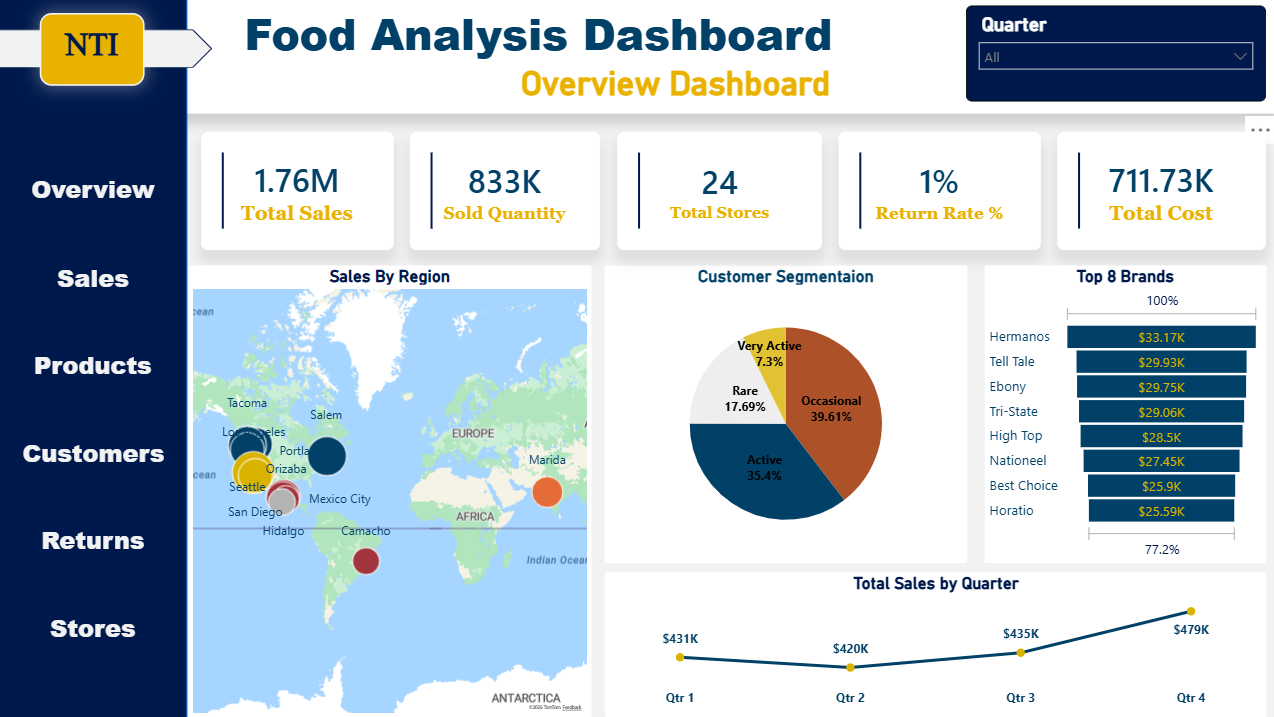

Layout of this report page (visuals, bound fields, positions):
{"tool":"powerbi","page":{"name":"Overview","canvas":[1280,720],"ordinal":1},"visuals":[{"type":"shape","box":[0,0,191.2,720],"z":0,"group":"g1"},{"type":"textbox","box":[1.2,0,1278.8,116.2],"z":0},{"type":"shape","box":[0,31.2,216.2,38.8],"z":1000,"group":"g1"},{"type":"cardVisual","fields":{"Data":["Sales.Total Sales"]},"box":[205,133.8,192.5,118.8],"z":1000},{"type":"textbox","box":[43.8,15,105,72.5],"z":2000,"group":"g1"},{"type":"cardVisual","fields":{"Data":["Sales.Total Quantity"]},"box":[414.1,133.8,190,118.8],"z":2000},{"type":"cardVisual","fields":{"Data":["Returns.Return Rate %"]},"box":[842.2,133.8,202.5,118.8],"z":3000},{"type":"actionButton","title":"Overview","box":[30.2,149.3,133.8,83.8],"z":3000,"group":"g1"},{"type":"cardVisual","fields":{"Data":["Sales.Total Cost"]},"box":[1061.2,133.8,208.8,118.8],"z":4000},{"type":"actionButton","title":"Overview","box":[30.2,237,133.8,83.8],"z":4000,"group":"g1"},{"type":"actionButton","title":"Overview","box":[30.2,324.8,133.8,83.8],"z":5000,"group":"g1"},{"type":"lineChart","fields":{"Y":["Sales.Total Sales"],"Category":["Calendar.date.Variation.Date Hierarchy.Year","Calendar.date.Variation.Date Hierarchy.Quarter","Calendar.date.Variation.Date Hierarchy.Month","Calendar.date.Variation.Date Hierarchy.Day"]},"box":[608.8,573.8,661.2,146.2],"z":5000},{"type":"funnel","title":"Top 8 Brands","fields":{"Category":["Products.Product Brand"],"Y":["Sales.Profit"]},"box":[988.8,267.5,281.2,297.5],"z":6000},{"type":"actionButton","title":"Overview","box":[19.6,412.5,155,83.8],"z":6000,"group":"g1"},{"type":"azureMap","title":"Sales By Region","fields":{"Series":["Region.Sales Region"],"Size":["Sales.Total Sales"],"Category":["Region.Sales District"]},"box":[192.5,267.5,402.5,452.5],"z":7000},{"type":"actionButton","title":"Overview","box":[30.2,500.3,133.8,83.8],"z":7000,"group":"g1"},{"type":"pieChart","title":"Customer Segmentaion","fields":{"Y":["Sales.Total Sales"],"Category":["Customers.Customer Segment"]},"box":[608.8,267.5,362.5,297.5],"z":8000},{"type":"actionButton","title":"Overview","box":[30.2,588,133.8,83.8],"z":8000,"group":"g1"},{"type":"group","id":"g1","title":"Group 1","box":[0,0,216.2,720],"z":9000},{"type":"slicer","fields":{"Values":["Calendar.date.Variation.Date Hierarchy.Quarter"]},"box":[970,7.5,300,96.2],"z":10000},{"type":"cardVisual","fields":{"Data":["Stores.Total Stores"]},"box":[620.6,133.8,205,118.8],"z":11000}]}

Visuals, with their boxes in screenshot pixels (x1, y1, x2, y2), scaled from the page's 1280x720 canvas onto the 1274x717 screenshot:
shape: 0 0 190 716
textbox: 1 0 1273 116
shape: 0 31 215 70
cardVisual - Sales.Total Sales: 204 133 396 252
textbox: 44 15 148 87
cardVisual - Sales.Total Quantity: 412 133 601 252
cardVisual - Returns.Return Rate %: 838 133 1040 252
"Overview" actionButton: 30 149 163 232
cardVisual - Sales.Total Cost: 1056 133 1264 252
"Overview" actionButton: 30 236 163 319
"Overview" actionButton: 30 323 163 407
lineChart - Sales.Total Sales x Calendar.date.Variation.Date Hierarchy.Year: 606 571 1264 716
"Top 8 Brands" funnel: 984 266 1264 563
"Overview" actionButton: 20 411 174 494
"Sales By Region" azureMap: 192 266 592 716
"Overview" actionButton: 30 498 163 582
"Customer Segmentaion" pieChart: 606 266 967 563
"Overview" actionButton: 30 586 163 669
"Group 1" group: 0 0 215 716
slicer - Calendar.date.Variation.Date Hierarchy.Quarter: 965 7 1264 103
cardVisual - Stores.Total Stores: 618 133 822 252
